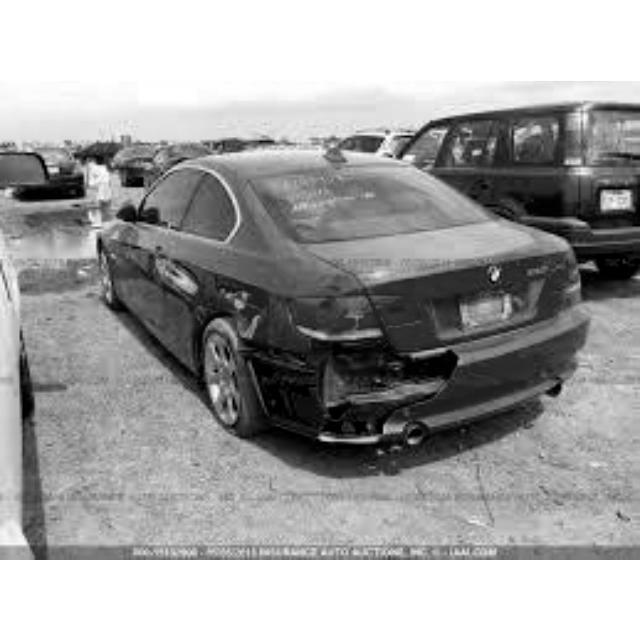quaterpanel-dent: (198, 260, 279, 334)
rear-bumper-dent: (270, 338, 465, 431)
